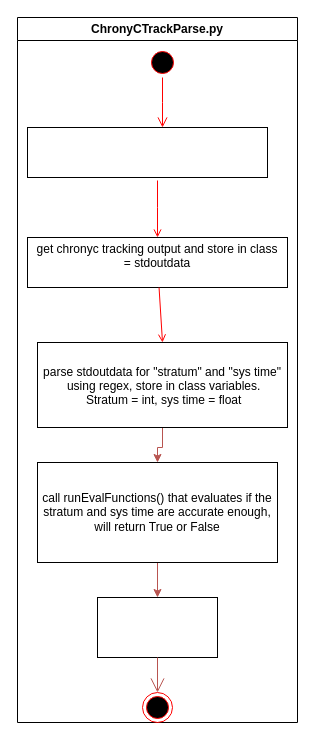
The diagram is 315 pixels wide and 740 high, and some of its shapes have lost their labels. Each missing label, with the centre of its shape:
create instance of ChronyCTracking() class = status: (x=147, y=152)
prompt user to check "stratum" or "sys time" variables.: (x=157, y=627)
